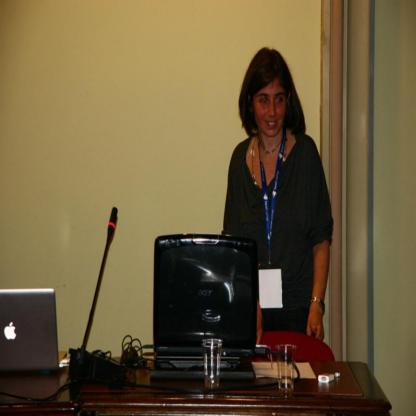board: (0, 290, 68, 377)
